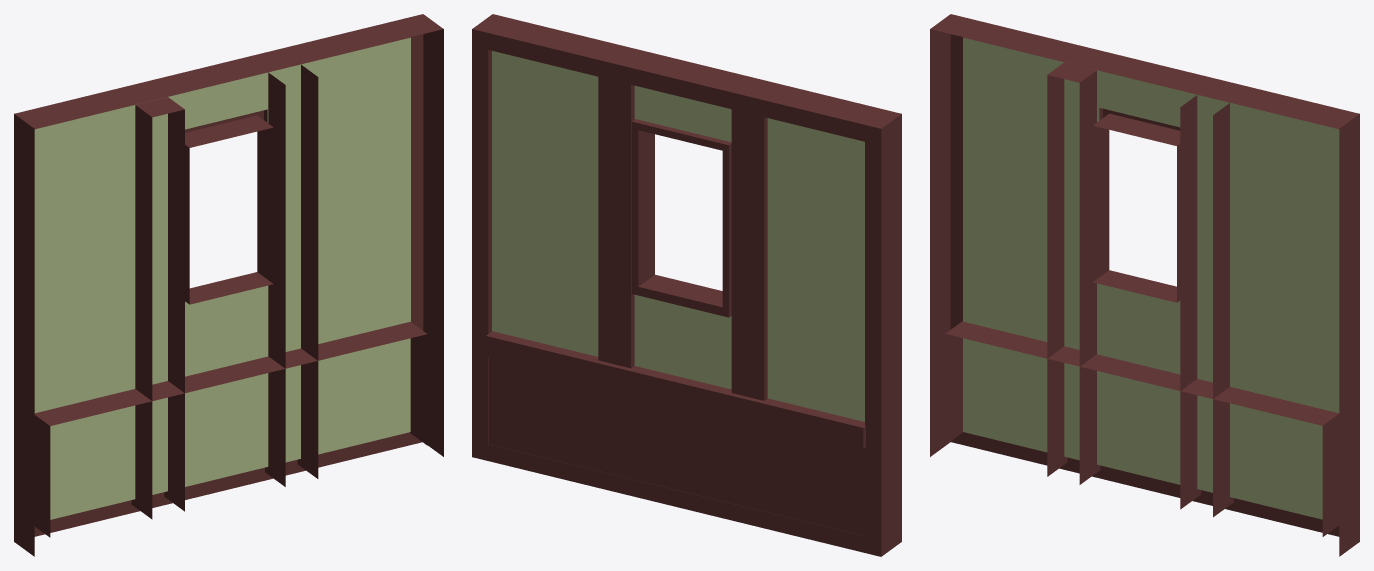
Rendered from Wall_200_Window_Small.fbx.
The picture shows the model from 3 angles, left to right: view 1: azimuth 30°, elevation 25°; view 2: azimuth 150°, elevation 25°; view 3: azimuth 330°, elevation 25°; orthographic projection.
Visible parts, largest first — view 1: Wall_Window_Small_K; view 2: Wall_Window_Small_K; view 3: Wall_Window_Small_K.
Part boxes in pixels (box(x1,y1,x2,y2)): Wall_Window_Small_K: box(14, 14, 443, 556); Wall_Window_Small_K: box(472, 14, 901, 556); Wall_Window_Small_K: box(930, 14, 1359, 556).
Size of the model in its own units: 2 by 2 by 0.2.
